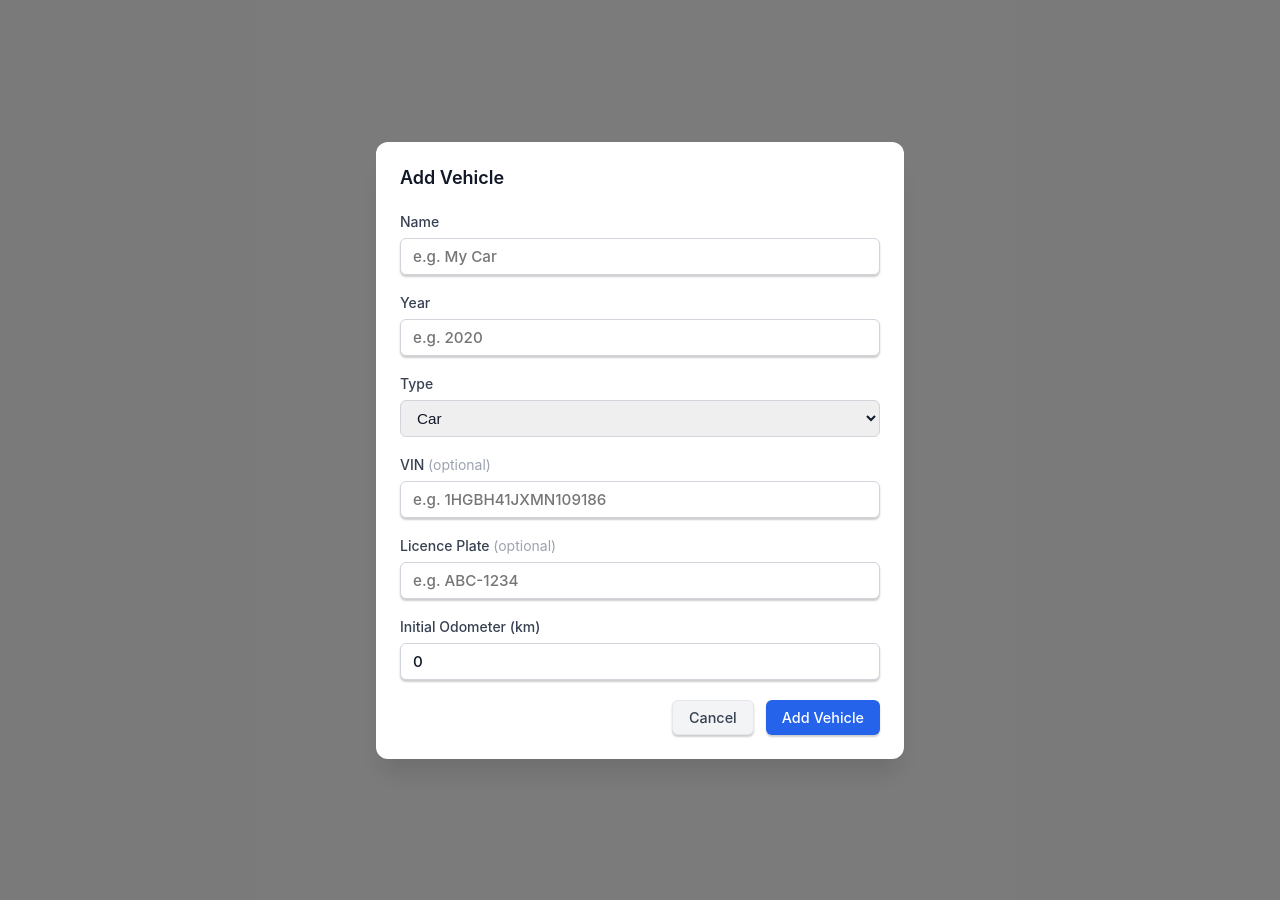
Scenario: AddEditVehicle – add mode › shows inline errors for empty name, invalid year, and negative odometer
Set invalid year
In the field with test id "input-year": [640, 337] box [400,318,880,356], type "abc"
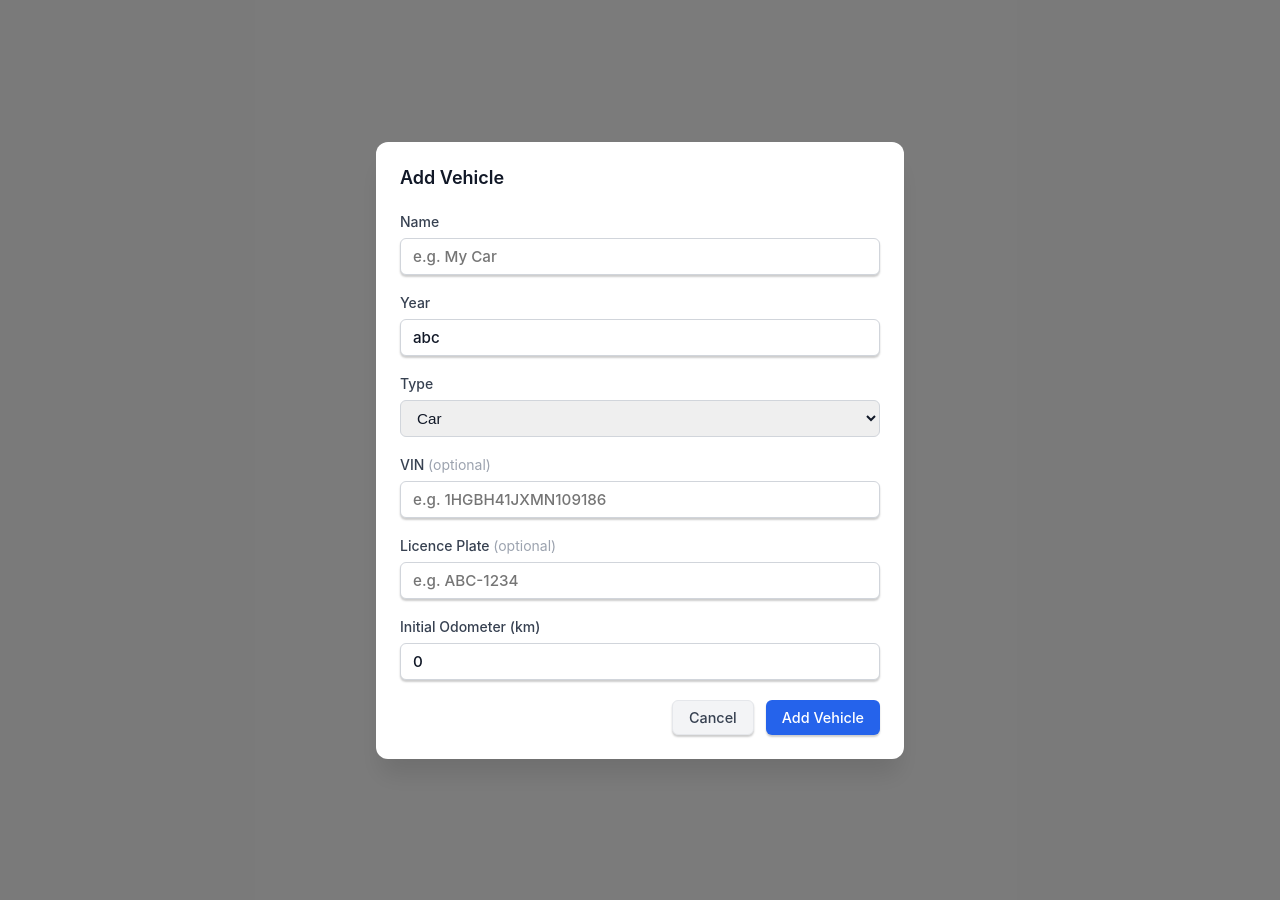
Set negative odometer
Replace the text in the number field with test id "input-odometer" with "-5": [640, 661] box [400,642,880,680]
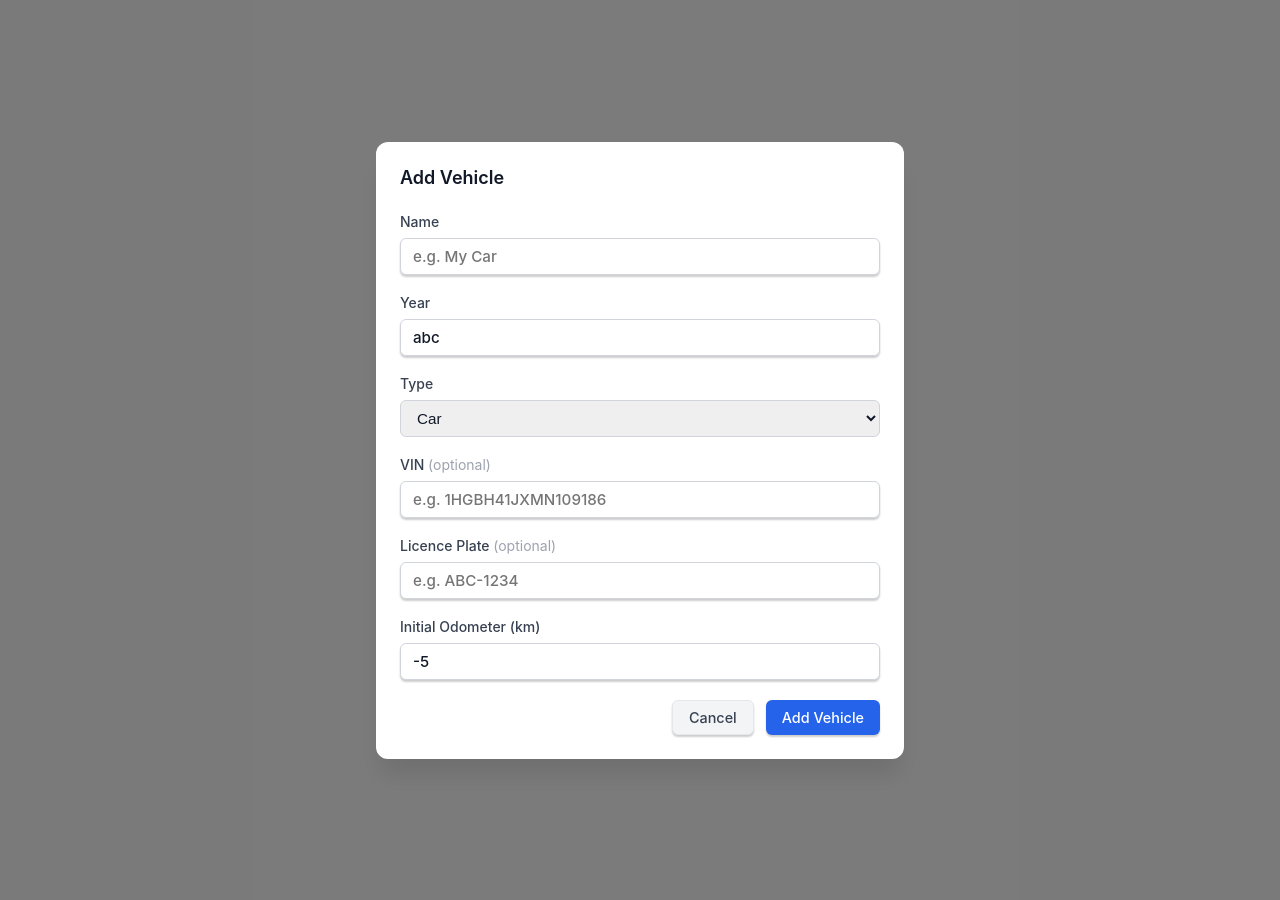
Click the button with test id "btn-submit": [823, 717] box [766,700,880,734]
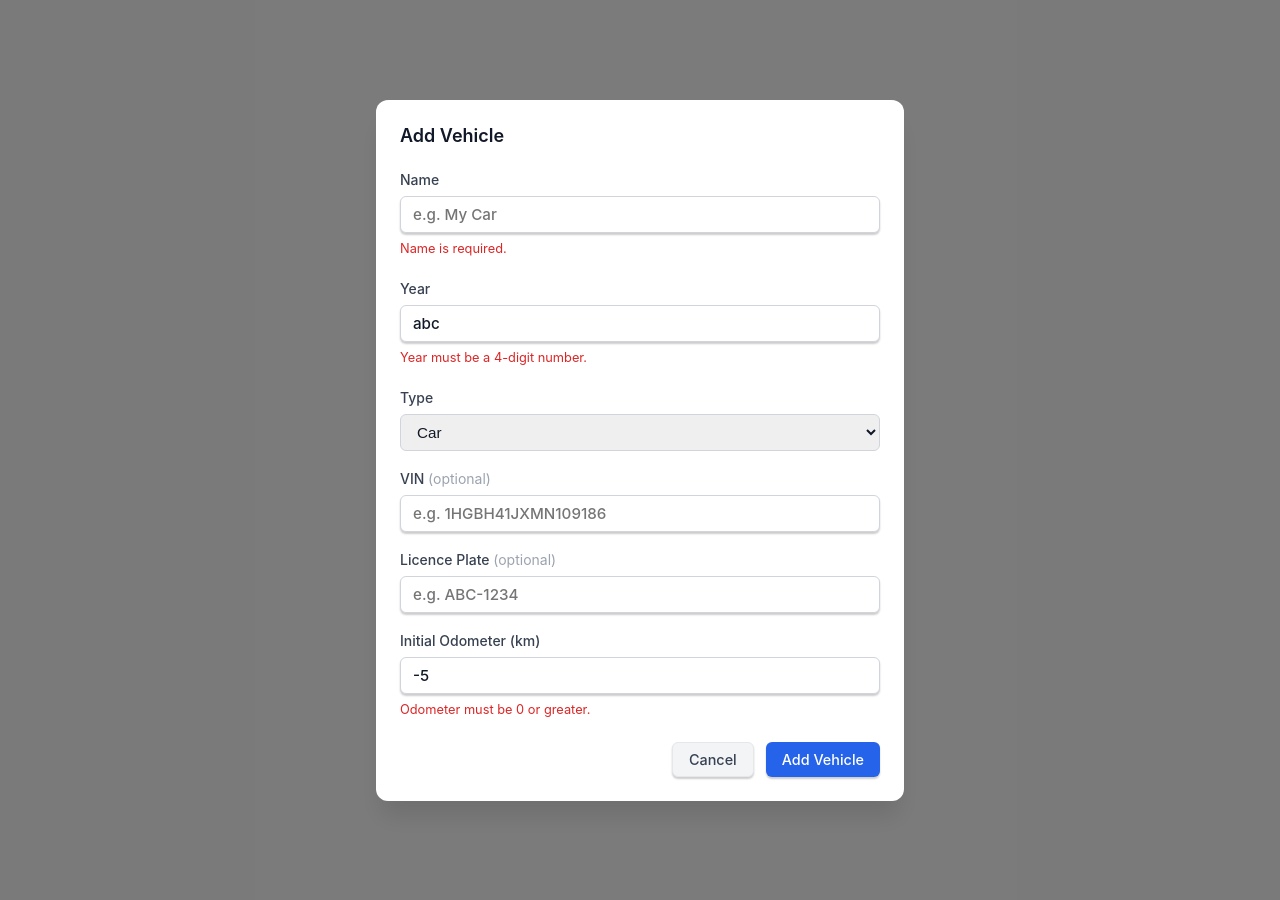
Now the text "Name is required." is shown, box [400,240,507,256]
Now the text "Year must be a 4-digit number." is shown, box [400,350,587,364]
Now the text "Odometer must be 0 or greater." is shown, box [400,702,590,716]
